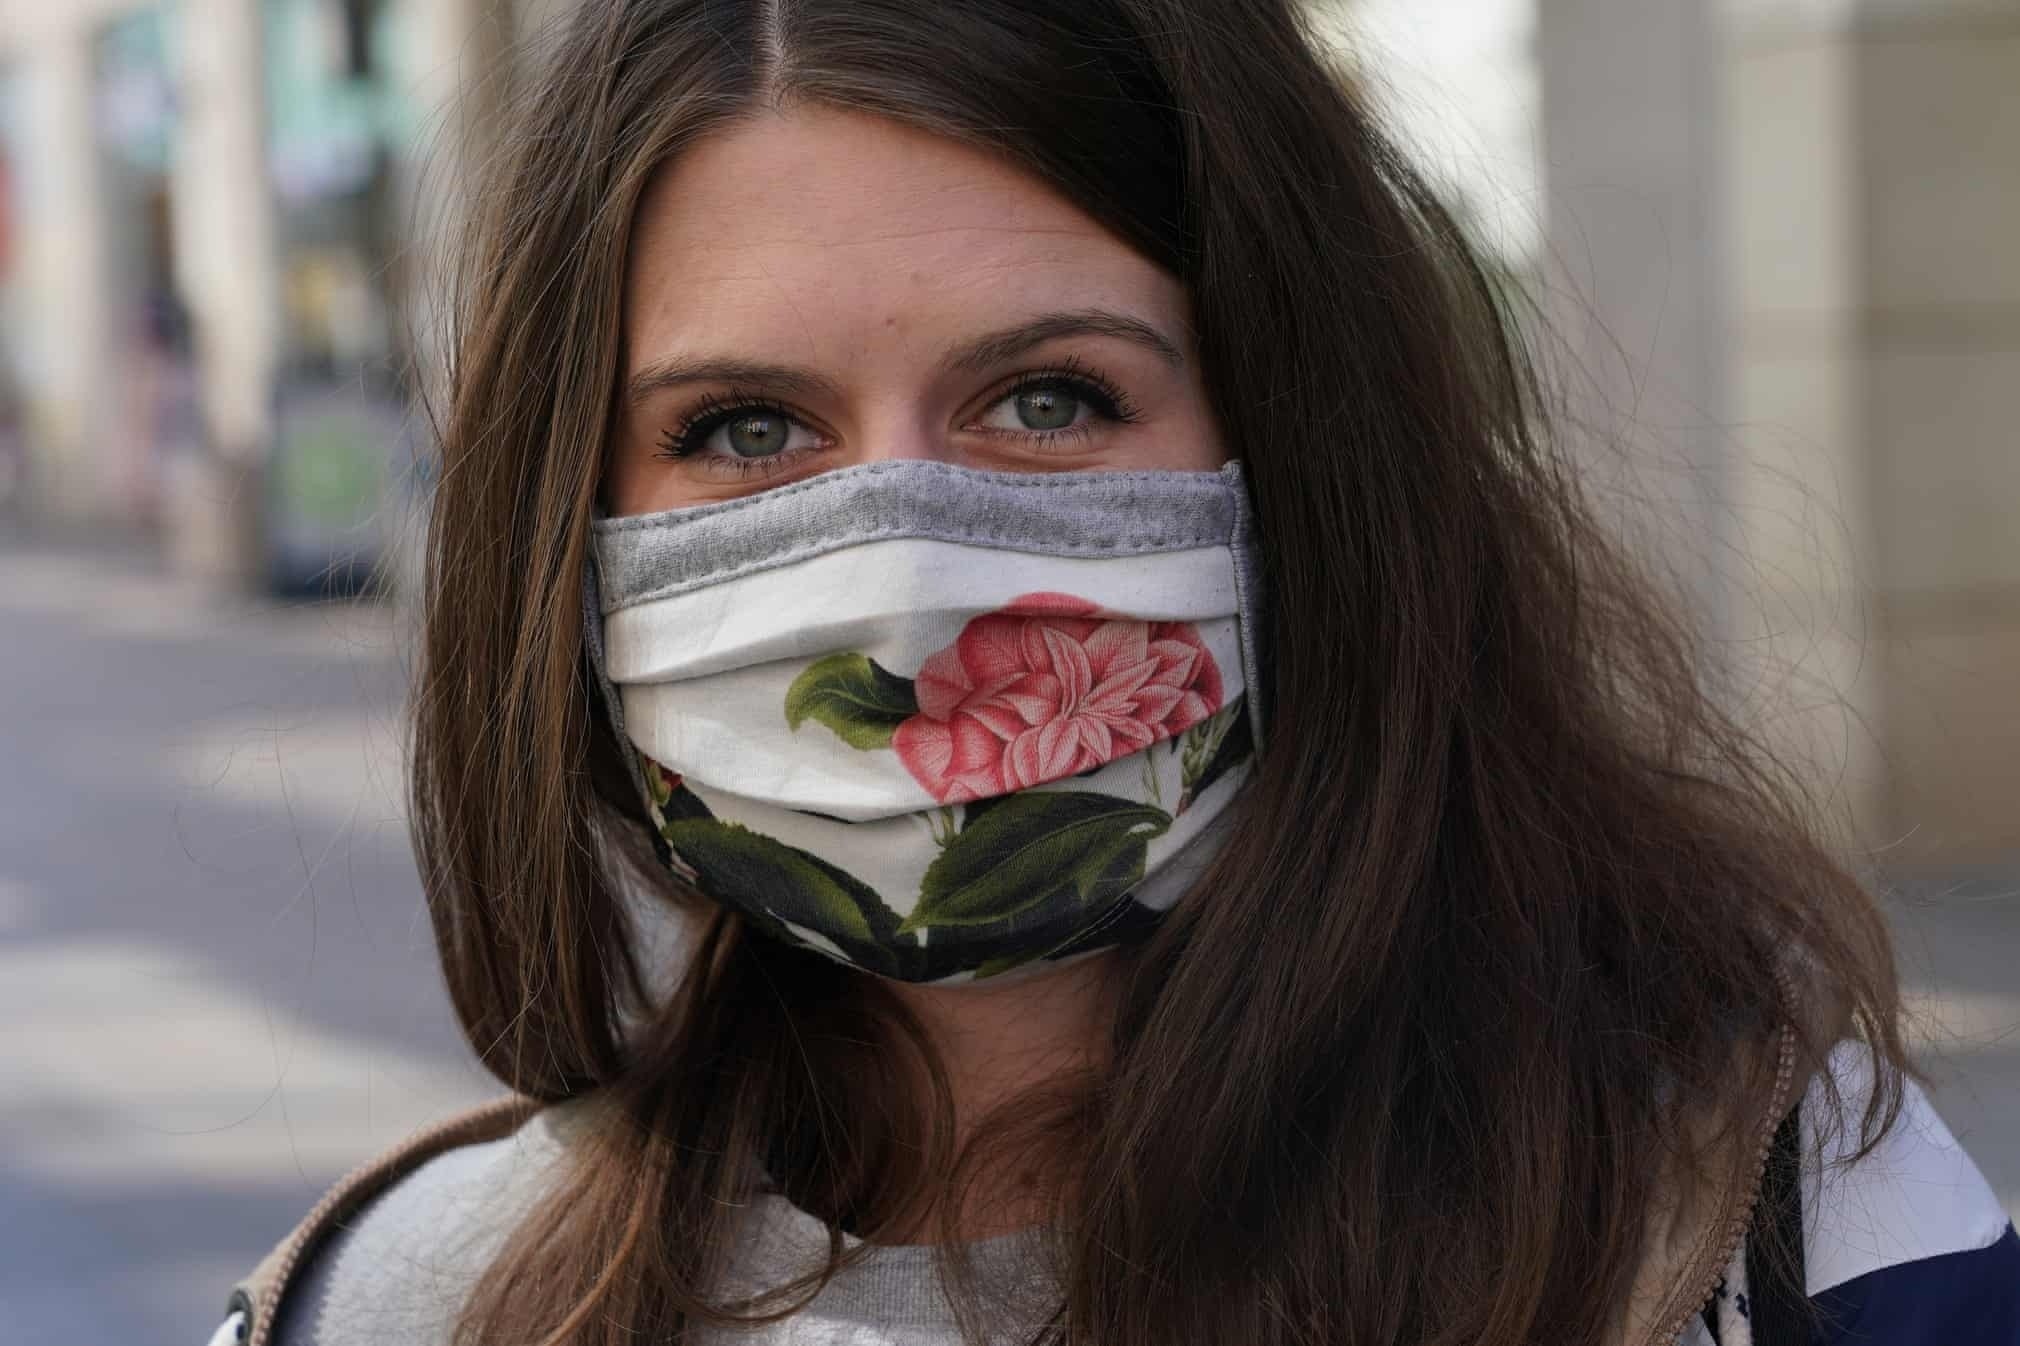face_with_mask: (478, 9, 1357, 1007)
